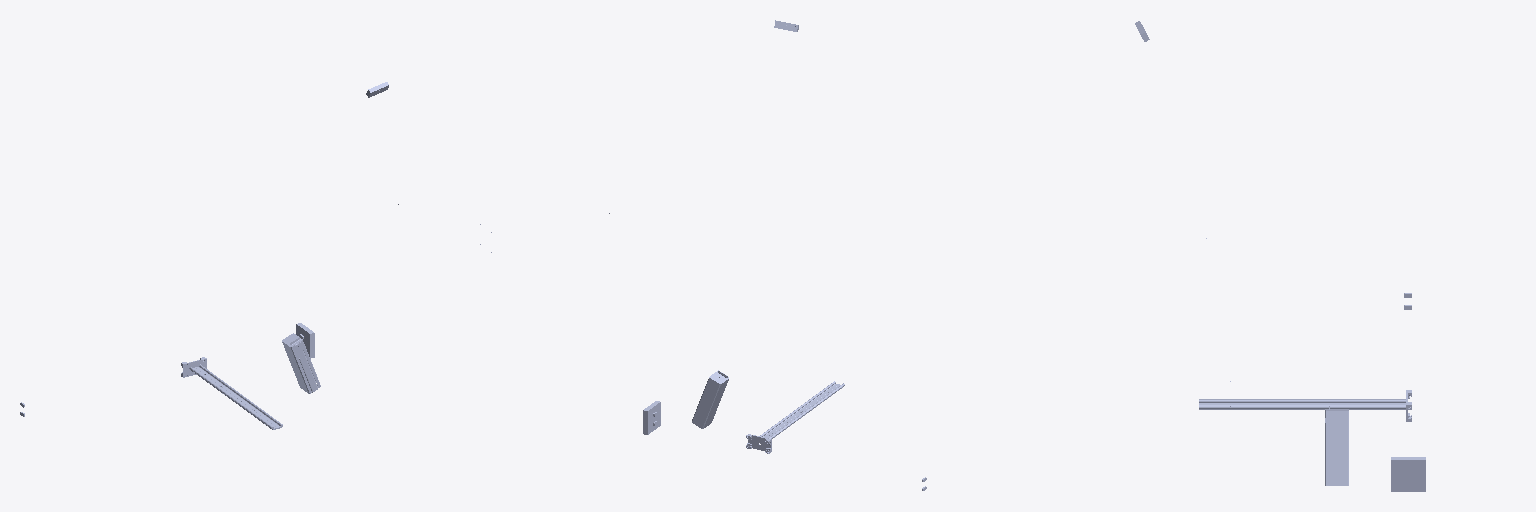
--- What the picture shows (computed from the rendered views, not written in the file) ---
3 views of the same robot in one strip: view 1: azimuth 30°, elevation 25°; view 2: azimuth 150°, elevation 25°; view 3: azimuth 270°, elevation 25° (orthographic).
Model robo_description with 21 links and 20 joints (2 revolute, 2 prismatic, 16 fixed), rooted at base_link, posed joints at zero except 1 at the middle of their limits (joint5 = 0.4665).
Links seen in each view (by area): view 1: link2, link5; view 2: link2, link5; view 3: link2, link5, base_link.
Link boxes in pixels (<box>): link2: <box>181,357,282,429</box>; link5: <box>282,333,320,393</box>; link2: <box>746,381,844,453</box>; link5: <box>692,370,728,428</box>; link2: <box>1199,390,1411,421</box>; link5: <box>1325,406,1348,485</box>; base_link: <box>1391,293,1425,491</box>.
Size in the robot's own frame: 1.65 by 0.8458 by 1.46 metres.
Meshes: 6 distinct files referenced, 4 mesh visuals loaded (4 binary STL); not drawn: 2 (reference not matched to a file when rendering).

robot.urdf — robo_description:
<?xml version="1.0" encoding="utf-8"?>
<!-- 25AUG2023 Changed the minimum limit of lJoint5 to 0.247 and max to 0.686 -->
<!-- This URDF was automatically created by SolidWorks to URDF Exporter! Originally created by Stephen Brawner ([email redacted]) 
     Commit Version: 1.6.0-4-g7f85cfe  Build Version: 1.6.7995.38578
     For more information, please see http://wiki.ros.org/sw_urdf_exporter -->
<robot
  name="robo_description">
  <link
    name="base_link">
    <inertial>
      <origin
        xyz="-5.13826234849775E-17 -1.63904738952765E-17 0.339473684210526"
        rpy="0 0 0" />
      <mass
        value="19" />
      <inertia
        ixx="2.34956140350877"
        ixy="1.11311423041845E-17"
        ixz="3.69215798456927E-16"
        iyy="2.34956140350877"
        iyz="-7.44985984223617E-17"
        izz="0.151666666666667" />
    </inertial>
    <visual>
      <origin
        xyz="0 0 0"
        rpy="0 0 0" />
      <geometry>
        <mesh
          filename="package://robo_description/meshes/base_link.STL" />
      </geometry>
      <material
        name="">
        <color
          rgba="0.792156862745098 0.819607843137255 0.933333333333333 1" />
      </material>
    </visual>
    <collision>
      <origin
        xyz="0 0 0"
        rpy="0 0 0" />
      <geometry>
        <mesh
          filename="package://robo_description/meshes/base_link.STL" />
      </geometry>
    </collision>
  </link>
  <link
    name="link2">
    <inertial>
      <origin
        xyz="-0.001261 -0.2858 0.14572"
        rpy="0 0 0" />
      <mass
        value="3.13280329013611" />
      <inertia
        ixx="0.0169430024052603"
        ixy="-0.00280446630124331"
        ixz="0.0223183329111622"
        iyy="0.162057682822749"
        iyz="0.000505061238040558"
        izz="0.161640952999751" />
    </inertial>
    <visual>
      <origin
        xyz="0 0 -1"
        rpy="0 0 0" />
      <geometry>
        <mesh
          filename="package://robo_description/meshes/link2.STL" />
      </geometry>
      <material
        name="">
        <color
          rgba="0.792156862745098 0.819607843137255 0.933333333333333 1" />
      </material>
    </visual>
    <collision>
      <origin
        xyz="0 0 0"
        rpy="0 0 0" />
      <geometry>
        <mesh
          filename="package://robo_description/meshes/link2.STL" />
      </geometry>
    </collision>
  </link>
  <joint
    name="joint2"
    type="prismatic">
    <origin
      xyz="0.0 0 1"
      rpy="0 0 0" />
    <parent
      link="base_link" />
    <child
      link="link2" />
    <axis
      xyz="0 0 1" />
    <limit
      lower="0"
      upper="1"
      effort="0"
      velocity="0" />
  </joint>
  <link
    name="link4">
    <inertial>
      <origin
        xyz="-0.000438554587764983 0.0620490502692163 -0.172885898172371"
        rpy="0 0 0" />
      <mass
        value="0.162146723185788" />
      <inertia
        ixx="0.00336616371871891"
        ixy="1.46811284877534E-06"
        ixz="-3.57096843523024E-06"
        iyy="0.00312866852492012"
        iyz="0.00048231220150353"
        izz="0.000338308018448651" />
    </inertial>
    <visual>
      <origin
        xyz="-0.4665 0 -0.790"
        rpy="0 0 0" />
      <geometry>
        <mesh
          filename="package://robo_description/meshes/link4.STL" />
      </geometry>
      <material
        name="">
        <color
          rgba="0.792156862745098 0.819607843137255 0.933333333333333 1" />
      </material>
    </visual>
    <collision>
      <origin
        xyz="0 0 0"
        rpy="0 0 0" />
      <geometry>
        <mesh
          filename="package://robo_description/meshes/link4.STL" />
      </geometry>
    </collision>
  </link>
  <joint
    name="joint4"
    type="revolute">
    <origin
      xyz="0.46904 0 -0.21"
      rpy="0 0 0" />
    <parent
      link="link2" />
    <child
      link="link4" />
    <axis
      xyz="0 0 1" />
    <limit
      lower="-2.9671"
      upper="2.9671"
      effort="0"
      velocity="0" />
  </joint>
  <link
    name="link3">
    <inertial>
      <origin
        xyz="-0.0832189655707039 -0.0894795892974461 -0.00179630042130147"
        rpy="0 0 0" />
      <mass
        value="1.71811977068641" />
      <inertia
        ixx="0.00948440583507882"
        ixy="-0.00159429497921182"
        ixz="0.00308193362516688"
        iyy="0.035537875179704"
        iyz="0.000648421421055908"
        izz="0.0305779645247813" />
    </inertial>
    <visual>
      <origin
        xyz="-0.468545 -0.078 -0.43528"
        rpy="0 0 0" />
      <geometry>
        <mesh
          filename="package://robo_description/meshes/link3.STL" />
      </geometry>
      <material
        name="">
        <color
          rgba="0.792156862745098 0.819607843137255 0.933333333333333 1" />
      </material>
    </visual>
    <collision>
      <origin
        xyz="0 0 0"
        rpy="0 0 0" />
      <geometry>
        <mesh
          filename="package://robo_description/meshes/link3.STL" />
      </geometry>
    </collision>
  </link>
  <joint
    name="joint3"
    type="revolute">
    <origin
      xyz="0.0 0.077824 -0.35472"
      rpy="0 0 0" />
    <parent
      link="link4" />
    <child
      link="link3" />
    <axis
      xyz="0 1 0" />
    <limit
      lower="-1.5708"
      upper="1.5708"
      effort="0"
      velocity="0" />
  </joint>
  <link
    name="yanthra_link">
    <inertial>
      <origin
        xyz="-0.0832189655707036 -0.0114795892974462 -0.00179630042130124"
        rpy="0 0 0" />
      <mass
        value="1.71811977068641" />
      <inertia
        ixx="0.00948440583507882"
        ixy="-0.00159429497921182"
        ixz="0.0030819336251669"
        iyy="0.035537875179704"
        iyz="0.000648421421055907"
        izz="0.0305779645247813" />
    </inertial>
    <visual>
      <origin
        xyz="0 0 0"
        rpy="0 0 0" />
      <geometry>
        <box size="0.001 0.001 0.001"/>
      </geometry>
      <material
        name="">
        <color
          rgba="0.792156862745098 0.819607843137255 0.933333333333333 1" />
      </material>
    </visual>
    <collision>
      <origin
        xyz="0 0 0"
        rpy="0 0 0" />
      <geometry>
        <box size="0.001 0.001 0.001"/>
      </geometry>
    </collision>
  </link>
  <joint
    name="yanthra_joint"
    type="fixed">
    <origin
      xyz="0 -0.078 0"
      rpy="0 0 0" />
    <parent
      link="link3" />
    <child
      link="yanthra_link" />
    <axis
      xyz="0 0 0" />
  </joint>
  <link
    name="link5_origin">
    <inertial>
      <origin
        xyz="-0.00874999999999998 0.0375 -0.00507843424240889"
        rpy="0 0 0" />
      <mass
        value="0.0438088883035136" />
      <inertia
        ixx="3.24913884800222E-05"
        ixy="1.33063310958086E-21"
        ixz="-8.470329472543E-22"
        iyy="3.99574478810853E-06"
        iyz="-3.38875204913906E-21"
        izz="3.07317223657389E-05" />
    </inertial>
    <visual>
      <origin
        xyz="0 0 0"
        rpy="0 0 0" />
      <geometry>
        <box size="0.001 0.001 0.001"/>
      </geometry>
      <material
        name="">
        <color
          rgba="0.792156862745098 0.819607843137255 0.933333333333333 1" />
      </material>
    </visual>
    <collision>
      <origin
        xyz="0 0 0"
        rpy="0 0 0" />
      <geometry>
        <box size="0.001 0.001 0.001"/>
      </geometry>
    </collision>
  </link>
  <joint
    name="link5_origin_joint"
    type="fixed">
    <origin
      xyz="0 0 0.0"
      rpy="0 0 0" />
    <parent	
      link="yanthra_link" />
    <child
      link="link5_origin" />
    <axis
      xyz="0 0 0" />
  </joint>
  <link
    name="link5">
    <inertial>
      <origin
        xyz="0.108132413871145 2.08242781028485E-06 0.00569147154470495"
        rpy="0 0 0" />
      <mass
        value="0.277404400359573" />
      <inertia
        ixx="0.00021628976171093"
        ixy="1.27900715148446E-06"
        ixz="-0.000135093187106687"
        iyy="0.00359200319167061"
        iyz="-8.36237914028336E-08"
        izz="0.00358633509004247" />
    </inertial>
    <visual>
      <origin
        xyz="-0.715545 0 -0.43528"
        rpy="0 0 0" />
      <geometry>
        <mesh
          filename="package://robo_description/meshes/link5.STL" />
      </geometry>
      <material
        name="">
        <color
          rgba="0.792156862745098 0.819607843137255 0.933333333333333 1" />
      </material>
    </visual>
    <collision>
      <origin
        xyz="0 0 0"
        rpy="0 0 0" />
      <geometry>
        <mesh
          filename="package://robo_description/meshes/link5.STL" />
      </geometry>
    </collision>
  </link>
  <joint
    name="joint5"
    type="prismatic">
    <origin
      xyz="0.0 0 0"
      rpy="0 0 0" />
    <parent
      link="link5_origin" />
    <child
      link="link5" />
    <axis
      xyz="1 0 0" />
    <limit
      lower="0.247"
      upper="0.686"
      effort="0"
      velocity="0" />
  </joint>
  <link
    name="ee_link">
    <inertial>
      <origin
        xyz="-0.00874999999999998 0.0375 -0.00507843424240889"
        rpy="0 0 0" />
      <mass
        value="0.0438088883035136" />
      <inertia
        ixx="3.24913884800222E-05"
        ixy="1.33063310958086E-21"
        ixz="-8.470329472543E-22"
        iyy="3.99574478810853E-06"
        iyz="-3.38875204913906E-21"
        izz="3.07317223657389E-05" />
    </inertial>
    <visual>
      <origin
        xyz="0 0 0"
        rpy="0 0 0" />
      <geometry>
        <box size="0.001 0.001 0.001"/>
      </geometry>
      <material
        name="">
        <color
          rgba="0.792156862745098 0.819607843137255 0.933333333333333 1" />
      </material>
    </visual>
    <collision>
      <origin
        xyz="0 0 0"
        rpy="0 0 0" />
      <geometry>
        <box size="0.001 0.001 0.001"/>
      </geometry>
    </collision>
  </link>
  <joint
    name="ee_joint"
    type="fixed">
    <origin
      xyz="-0.085 0 0"
      rpy="0 0 0" />
    <parent	
      link="link5" />
    <child
      link="ee_link" />
    <axis
      xyz="0 0 0" />
  </joint>
  <link
    name="aruco_marker_link">
    <inertial>
      <origin
        xyz="-0.00874999999999998 0.0375 -0.00507843424240889"
        rpy="0 0 0" />
      <mass
        value="0.0438088883035136" />
      <inertia
        ixx="3.24913884800222E-05"
        ixy="1.33063310958086E-21"
        ixz="-8.470329472543E-22"
        iyy="3.99574478810853E-06"
        iyz="-3.38875204913906E-21"
        izz="3.07317223657389E-05" />
    </inertial>
    <visual>
      <origin
        xyz="0 0 0"
        rpy="0 0 0" />
      <geometry>
        <box size="0.001 0.001 0.001"/>
      </geometry>
      <material
        name="">
        <color
          rgba="0.792156862745098 0.819607843137255 0.933333333333333 1" />
      </material>
    </visual>
    <collision>
      <origin
        xyz="0 0 0"
        rpy="0 0 0" />
      <geometry>
        <box size="0.001 0.001 0.001"/>
      </geometry>
    </collision>
  </link>
  <joint
    name="aruco_joint"
    type="fixed">
    <origin
      xyz="0.0 0 0.08"
      rpy="0 0 0" />
    <parent	
      link="ee_link" />
    <child
      link="aruco_marker_link" />
    <axis
      xyz="0 0 0" />
  </joint>
  <link
    name="aruco_link_1">
    <inertial>
      <origin
        xyz="-0.00874999999999998 0.0375 -0.00507843424240889"
        rpy="0 0 0" />
      <mass
        value="0.0438088883035136" />
      <inertia
        ixx="3.24913884800222E-05"
        ixy="1.33063310958086E-21"
        ixz="-8.470329472543E-22"
        iyy="3.99574478810853E-06"
        iyz="-3.38875204913906E-21"
        izz="3.07317223657389E-05" />
    </inertial>
    <visual>
      <origin
        xyz="0 0 0"
        rpy="0 0 0" />
      <geometry>
        <box size="0.001 0.001 0.001"/>
      </geometry>
      <material
        name="">
        <color
          rgba="0.792156862745098 0.819607843137255 0.933333333333333 1" />
      </material>
    </visual>
    <collision>
      <origin
        xyz="0 0 0"
        rpy="0 0 0" />
      <geometry>
        <box size="0.001 0.001 0.001"/>
      </geometry>
    </collision>
  </link>
  <joint
    name="aruco_joint_1"
    type="fixed">
    <origin
      xyz="0.0 0.04 0.04"
      rpy="0 0 0" />
    <parent	
      link="aruco_marker_link" />
    <child
      link="aruco_link_1" />
    <axis
      xyz="0 0 0" />
  </joint>
  <link
    name="aruco_link_2">
    <inertial>
      <origin
        xyz="-0.00874999999999998 0.0375 -0.00507843424240889"
        rpy="0 0 0" />
      <mass
        value="0.0438088883035136" />
      <inertia
        ixx="3.24913884800222E-05"
        ixy="1.33063310958086E-21"
        ixz="-8.470329472543E-22"
        iyy="3.99574478810853E-06"
        iyz="-3.38875204913906E-21"
        izz="3.07317223657389E-05" />
    </inertial>
    <visual>
      <origin
        xyz="0 0 0"
        rpy="0 0 0" />
      <geometry>
        <box size="0.001 0.001 0.001"/>
      </geometry>
      <material
        name="">
        <color
          rgba="0.792156862745098 0.819607843137255 0.933333333333333 1" />
      </material>
    </visual>
    <collision>
      <origin
        xyz="0 0 0"
        rpy="0 0 0" />
      <geometry>
        <box size="0.001 0.001 0.001"/>
      </geometry>
    </collision>
  </link>
  <joint
    name="aruco_joint_2"
    type="fixed">
    <origin
      xyz="0.0 -0.04 0.04"
      rpy="0 0 0" />
    <parent	
      link="aruco_marker_link" />
    <child
      link="aruco_link_2" />
    <axis
      xyz="0 0 0" />
  </joint>
  <link
    name="aruco_link_3">
    <inertial>
      <origin
        xyz="-0.00874999999999998 0.0375 -0.00507843424240889"
        rpy="0 0 0" />
      <mass
        value="0.0438088883035136" />
      <inertia
        ixx="3.24913884800222E-05"
        ixy="1.33063310958086E-21"
        ixz="-8.470329472543E-22"
        iyy="3.99574478810853E-06"
        iyz="-3.38875204913906E-21"
        izz="3.07317223657389E-05" />
    </inertial>
    <visual>
      <origin
        xyz="0 0 0"
        rpy="0 0 0" />
      <geometry>
        <box size="0.001 0.001 0.001"/>
      </geometry>
      <material
        name="">
        <color
          rgba="0.792156862745098 0.819607843137255 0.933333333333333 1" />
      </material>
    </visual>
    <collision>
      <origin
        xyz="0 0 0"
        rpy="0 0 0" />
      <geometry>
        <box size="0.001 0.001 0.001"/>
      </geometry>
    </collision>
  </link>
  <joint
    name="aruco_joint_3"
    type="fixed">
    <origin
      xyz="0.0 0.04 -0.04"
      rpy="0 0 0" />
    <parent	
      link="aruco_marker_link" />
    <child
      link="aruco_link_3" />
    <axis
      xyz="0 0 0" />
  </joint>
  <link
    name="aruco_link_4">
    <inertial>
      <origin
        xyz="-0.00874999999999998 0.0375 -0.00507843424240889"
        rpy="0 0 0" />
      <mass
        value="0.0438088883035136" />
      <inertia
        ixx="3.24913884800222E-05"
        ixy="1.33063310958086E-21"
        ixz="-8.470329472543E-22"
        iyy="3.99574478810853E-06"
        iyz="-3.38875204913906E-21"
        izz="3.07317223657389E-05" />
    </inertial>
    <visual>
      <origin
        xyz="0 0 0"
        rpy="0 0 0" />
      <geometry>
        <box size="0.001 0.001 0.001"/>
      </geometry>
      <material
        name="">
        <color
          rgba="0.792156862745098 0.819607843137255 0.933333333333333 1" />
      </material>
    </visual>
    <collision>
      <origin
        xyz="0 0 0"
        rpy="0 0 0" />
      <geometry>
        <box size="0.001 0.001 0.001"/>
      </geometry>
    </collision>
  </link>
  <joint
    name="aruco_joint_4"
    type="fixed">
    <origin
      xyz="0.0 -0.04 -0.04"
      rpy="0 0 0" />
    <parent	
      link="aruco_marker_link" />
    <child
      link="aruco_link_4" />
    <axis
      xyz="0 0 0" />
  </joint>
  <link
    name="link7">
    <inertial>
      <origin
        xyz="-0.00129487747822488 -0.0114795892973884 0.11996423535158"
        rpy="0 0 0" />
      <mass
        value="1.71811977068641" />
      <inertia
        ixx="0.0113386071435481"
        ixy="-0.00171490439294498"
        ixz="-0.00672100859249017"
        iyy="0.0355378751797041"
        iyz="-0.0001460470577602"
        izz="0.0287237632163119" />
    </inertial>
    <visual>
      <origin
        xyz="0 0 0"
        rpy="0 0 0" />
      <geometry>
        <box size="0.001 0.001 0.001"/>
      </geometry>
      <material
        name="">
        <color
          rgba="0.792156862745098 0.819607843137255 0.933333333333333 1" />
      </material>
    </visual>
    <collision>
      <origin
        xyz="0 0 0"
        rpy="0 0 0" />
      <geometry>
        <box size="0.001 0.001 0.001"/>
      </geometry>
    </collision>
  </link>
  <joint
    name="joint7"
    type="fixed">
    <origin
      xyz="0.47229 -0.069971 0.79711"
      rpy="0 0.785398 -1.5708" />
    <parent
      link="base_link"/>
    <child
      link="link7"/>
    <axis
      xyz="0 0 0" />
  </joint>
  <link
    name="camera_mount_link">
    <inertial>
      <origin
        xyz="-0.00129487747822488 -0.0114795892973883 0.11996423535158"
        rpy="0 0 0" />
      <mass
        value="1.71811977068641" />
      <inertia
        ixx="0.0113386071435481"
        ixy="-0.00171490439294498"
        ixz="-0.00672100859249018"
        iyy="0.0355378751797041"
        iyz="-0.000146047057760202"
        izz="0.0287237632163119" />
    </inertial>
    <visual>
      <origin
        xyz="0 0 0"
        rpy="0 0 0" />
      <geometry>
        <box size="0.001 0.001 0.001"/>
      </geometry>
      <material
        name="">
        <color
          rgba="0.792156862745098 0.819607843137255 0.933333333333333 1" />
      </material>
    </visual>
    <collision>
      <origin
        xyz="0 0 0"
        rpy="0 0 0" />
      <geometry>
        <box size="0.001 0.001 0.001"/>
      </geometry>
    </collision>
  </link>
     <!--Realsense Camera depth is 20 mm from back to glass, But the depth start point(GROUND ZERO REFERENCE i.e depth is Zero) is 1.1 mm behind glass-->
     <!--Camera thickness-Zero Ref +Plate thick=20-1.1+2 = 20.09 mm -->
     <!-- xyz="0.0209 -0.0375 0"-->
  <joint
    name="camera_mount_joint"
    type="fixed">
    <origin
      xyz="0.02090 -0.0375 0"
      rpy="-1.5708 0 -1.5708" />
    <parent
      link="link7" />
    <child
      link="camera_mount_link" />
    <axis
      xyz="0 0 0" />
  </joint>
  <link
    name="virtual_cam_link">
    <inertial>
      <origin
        xyz="-0.00874999999999998 0.0375 -0.00507843424240889"
        rpy="0 0 0" />
      <mass
        value="0.0438088883035136" />
      <inertia
        ixx="3.24913884800222E-05"
        ixy="1.33063310958086E-21"
        ixz="-8.470329472543E-22"
        iyy="3.99574478810853E-06"
        iyz="-3.38875204913906E-21"
        izz="3.07317223657389E-05" />
    </inertial>
    <visual>
      <origin
        xyz="0 0 0"
        rpy="0 0 0" />
      <geometry>
        <box size="0.001 0.001 0.001"/>
      </geometry>
      <material
        name="">
        <color
          rgba="0.792156862745098 0.819607843137255 0.933333333333333 1" />
      </material>
    </visual>
    <collision>
      <origin
        xyz="0 0 0"
        rpy="0 0 0" />
      <geometry>
        <box size="0.001 0.001 0.001"/>
      </geometry>
    </collision>
  </link>
  <joint
    name="virtual_cam_link_joint"
    type="fixed">
    <origin
      xyz="0 0 0"
      rpy="0 0 0" />
    <parent	
      link="camera_mount_link" />
    <child
      link="virtual_cam_link" />
    <axis
      xyz="0 0 0" />
  </joint>

  <link
    name="camera_link">
    <inertial>
      <origin
        xyz="-0.00874999999999998 0.0375 -0.00507843424240889"
        rpy="0 0 0" />
      <mass
        value="0.0438088883035136" />
      <inertia
        ixx="3.24913884800222E-05"
        ixy="1.33063310958086E-21"
        ixz="-8.470329472543E-22"
        iyy="3.99574478810853E-06"
        iyz="-3.38875204913906E-21"
        izz="3.07317223657389E-05" />
    </inertial>
    <visual>
      <origin
        xyz="-0.03768 -0.425 -0.175"
        rpy="0 -2.04 -1.5708" />
      <geometry>
        <mesh
          filename="package://robo_description/meshes/camera_link.STL" />
      </geometry>
      <material
        name="">
        <color
          rgba="0.792156862745098 0.819607843137255 0.933333333333333 1" />
      </material>
    </visual>
    <collision>
      <origin
        xyz="0 0 0"
        rpy="0 0 0" />
      <geometry>
        <mesh
          filename="package://robo_description/meshes/camera_link.STL" />
      </geometry>
    </collision>
  </link>
  <joint
    name="camera_link_joint"
    type="fixed">
    <origin
      xyz="-0.0135553 -0.0117539 -0.00279515"
      rpy="0.0123397 -0.170574 -0.0994365" />
    <parent
      link="virtual_cam_link" />
    <child
      link="camera_link" />
    <axis
      xyz="0 0 0" />
  </joint>

  <link name="camera_depth_frame">

    <visual>

    <origin xyz="0 0 0" rpy="0 0 0" />

      <geometry>

        <box size="0.001 0.001 0.001"/>

      </geometry>

    </visual>

  </link>

  <joint name="camera_depth_frame_joint" type="fixed">

    <origin rpy="0 0 0" xyz="0 0 0"/>

    <parent link="camera_link"/>

    <child link="camera_depth_frame"/>

  </joint>

  <link name="camera_depth_optical_frame">

    <visual>

    <origin xyz="0 0 0" rpy="0 0 0" />

      <geometry>

        <box size="0.001 0.001 0.001"/>

      </geometry>

    </visual>

  </link>

  <joint name="camera_depth_optical_frame_joint" type="fixed">

   <origin rpy="0 0 0" xyz="0 0 0"/>

   <parent link="camera_depth_frame"/>

   <child link="camera_depth_optical_frame"/>

  </joint>

  <link name="camera_color_frame">

    <visual>

    <origin xyz="0 0 0" rpy="0 0 0" />

      <geometry>

        <box size="0.001 0.001 0.001"/>

      </geometry>

    </visual>

  </link>

  <joint name="camera_color_frame_joint" type="fixed">

    <origin rpy="0 0 0" xyz="0 0 0"/>

    <parent link="camera_link"/>

    <child link="camera_color_frame"/>

  </joint>

  <link name="camera_color_optical_frame">

    <visual>

    <origin xyz="0 0 0" rpy="0 0 0" />

      <geometry>

        <box size="0.001 0.001 0.001"/>

      </geometry>

    </visual>

  </link>

  <joint name="camera_color_optical_frame_joint" type="fixed">

   <origin rpy="0 0 0" xyz="0 0 0"/>

   <parent link="camera_color_frame"/>

   <child link="camera_color_optical_frame"/>

  </joint>
  <gazebo reference="stand">

    <material>Gazebo/Grey</material>

  </gazebo>

  <gazebo reference="link3">

    <material>Gazebo/Green</material>

  </gazebo>

  <gazebo reference="link4">

    <material>Gazebo/Red</material>

  </gazebo>

  <gazebo reference="link5">

    <material>Gazebo/Green</material>

  </gazebo>

  <gazebo reference="link9">

    <material>Gazebo/Red</material>

  </gazebo>

  <gazebo reference="link6">

    <material>Gazebo/White</material>

  </gazebo>

  <transmission name="tran1">

    <type>transmission_interface/SimpleTransmission</type>

    <joint name="joint3">

      <hardwareInterface>hardware_interface/PositionJointInterface</hardwareInterface>

    </joint>

    <actuator name="motor1">

      <hardwareInterface>hardware_interface/PositionJointInterface</hardwareInterface>

      <mechanicalReduction>1</mechanicalReduction>

    </actuator>

  </transmission>

  <transmission name="tran1">

    <type>transmission_interface/SimpleTransmission</type>

    <joint name="joint4">

      <hardwareInterface>hardware_interface/PositionJointInterface</hardwareInterface>

    </joint>

    <actuator name="motor1">

      <hardwareInterface>hardware_interface/PositionJointInterface</hardwareInterface>

      <mechanicalReduction>1</mechanicalReduction>

    </actuator>

  </transmission>

  <transmission name="tran1">

    <type>transmission_interface/SimpleTransmission</type>

    <joint name="joint5">

      <hardwareInterface>hardware_interface/PositionJointInterface</hardwareInterface>

    </joint>

    <actuator name="motor1">

      <hardwareInterface>hardware_interface/PositionJointInterface</hardwareInterface>

      <mechanicalReduction>1</mechanicalReduction>

    </actuator>

  </transmission>

  <gazebo>

    <plugin filename="libgazebo_ros_control.so" name="gazebo_ros_control">

      <robotNameSpace>/arm_controller</robotNameSpace>

    </plugin>

  </gazebo>

</robot>
